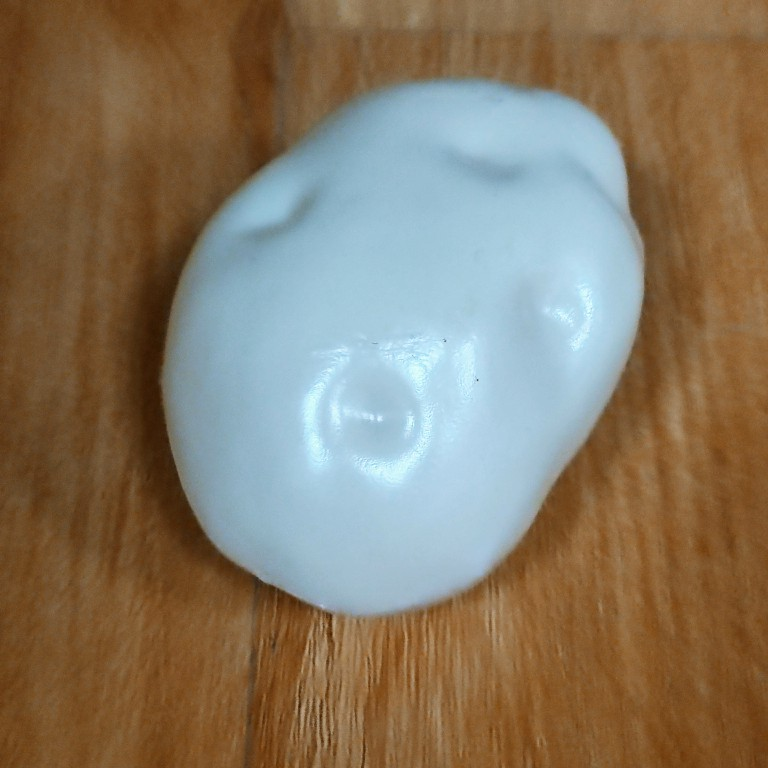fruit_potato: (149, 70, 647, 618)
